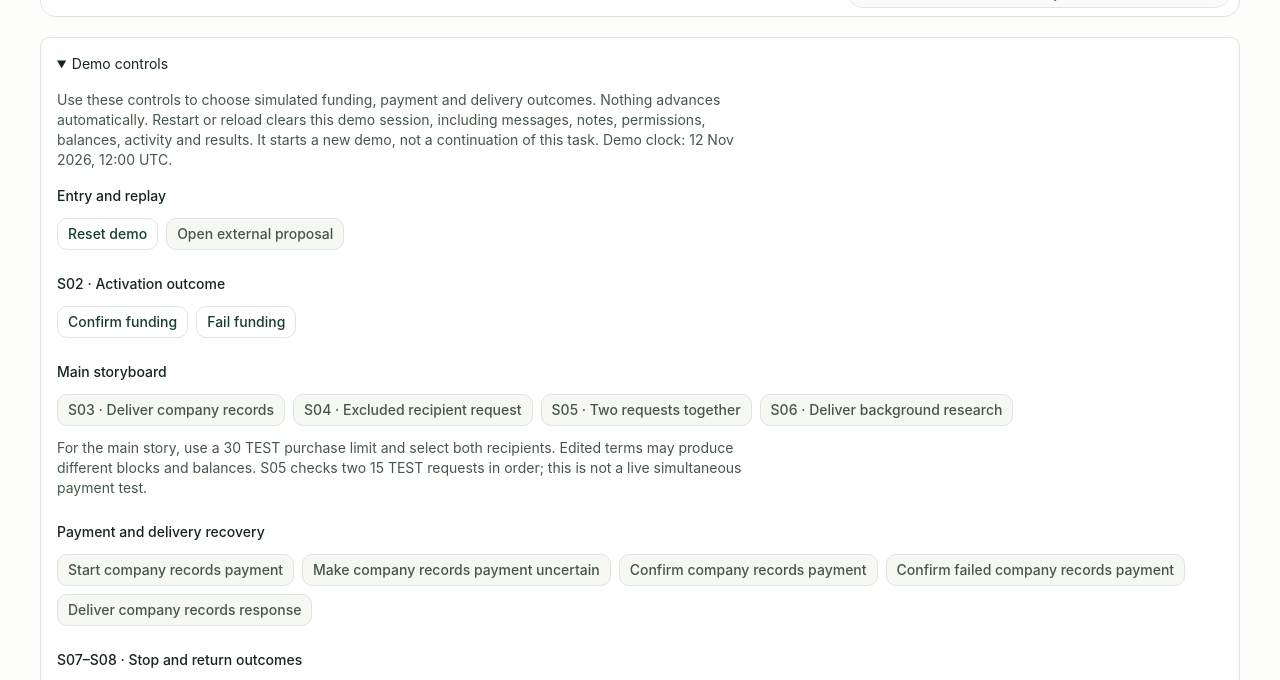
Test: failed prior payment is not reclassified as a purchase that never started
Earlier steps of the test are not shown.
(page scrolled)
Click the button "Confirm funding" at (123, 322), box x1=57 y1=306 x2=188 y2=338
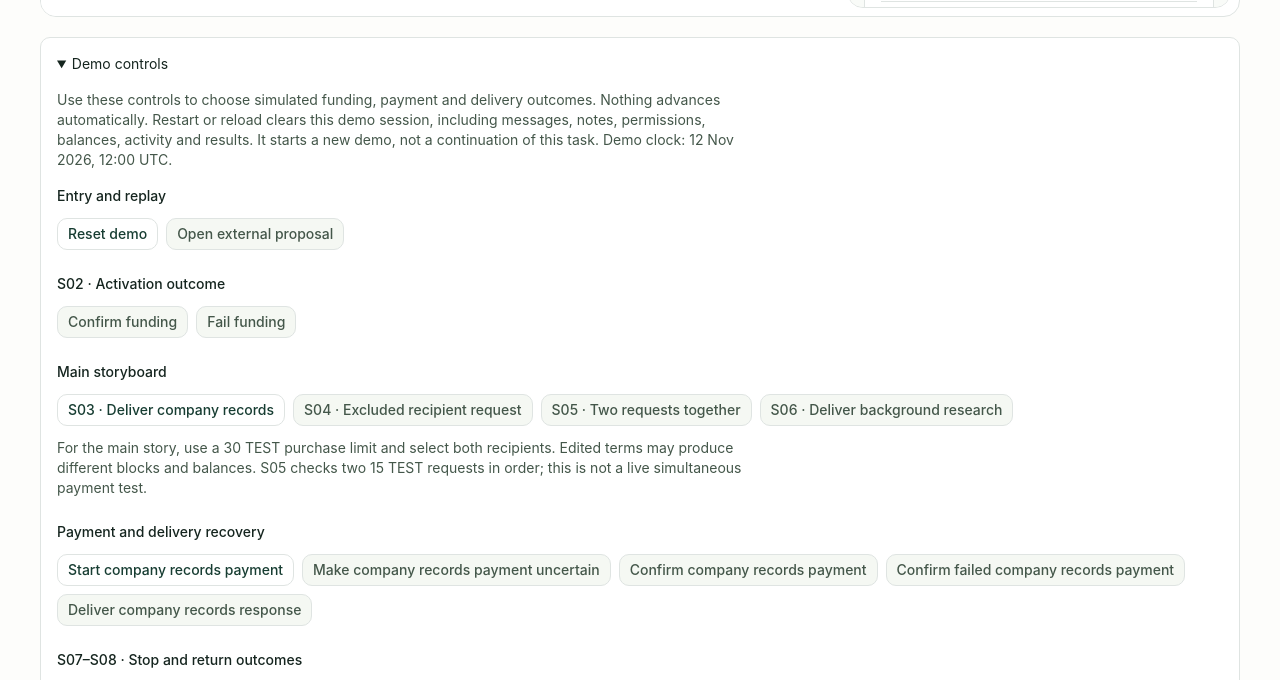
Click the button "Start company records payment" at (176, 570), box x1=57 y1=554 x2=294 y2=586
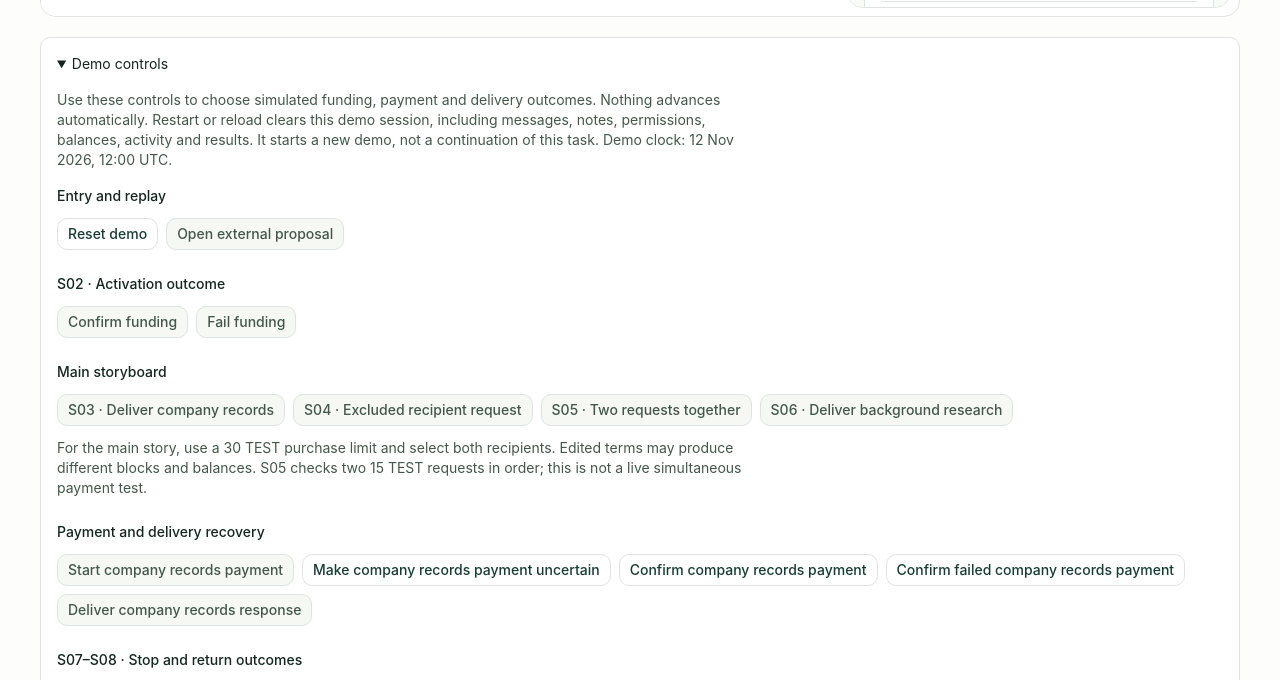
Click the button "Confirm failed company records payment" at (1035, 570), box x1=886 y1=554 x2=1185 y2=586
(page scrolled)
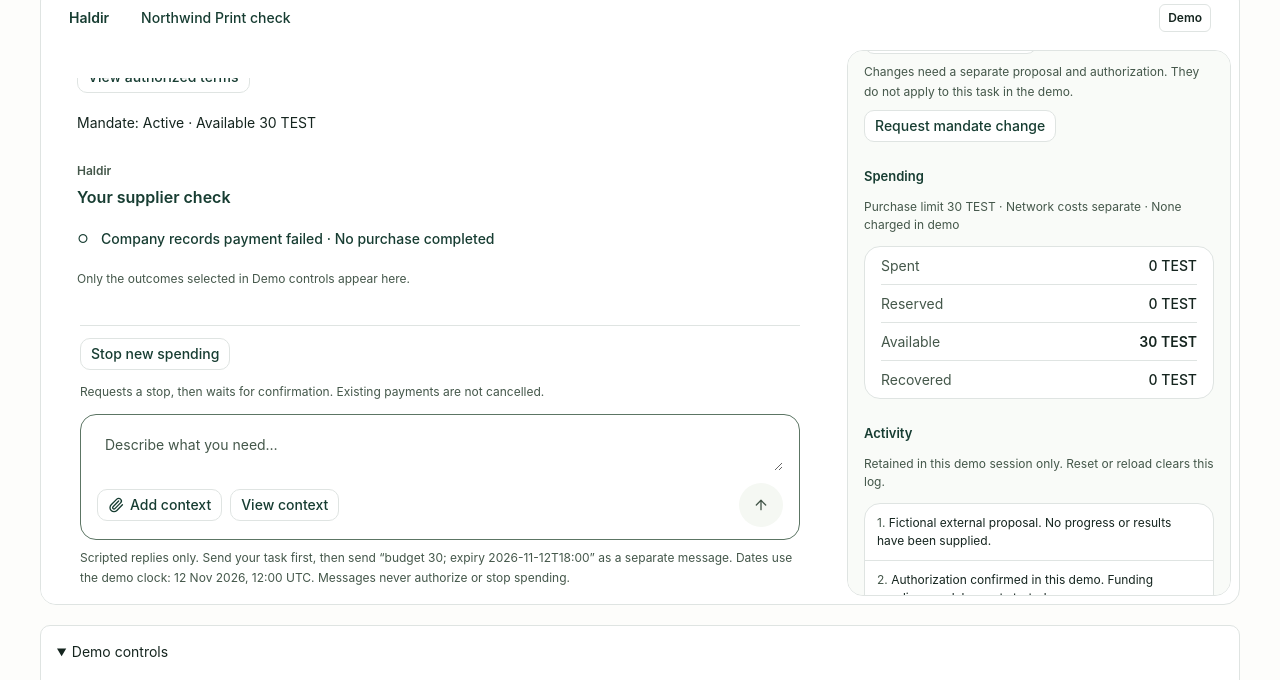
Check: the element named "Agent work" does not show "No purchase started yet", box x1=77 y1=163 x2=494 y2=286
Check: the element named "Agent work" shows "Company records payment failed · No purchase completed", box x1=101 y1=230 x2=494 y2=247
